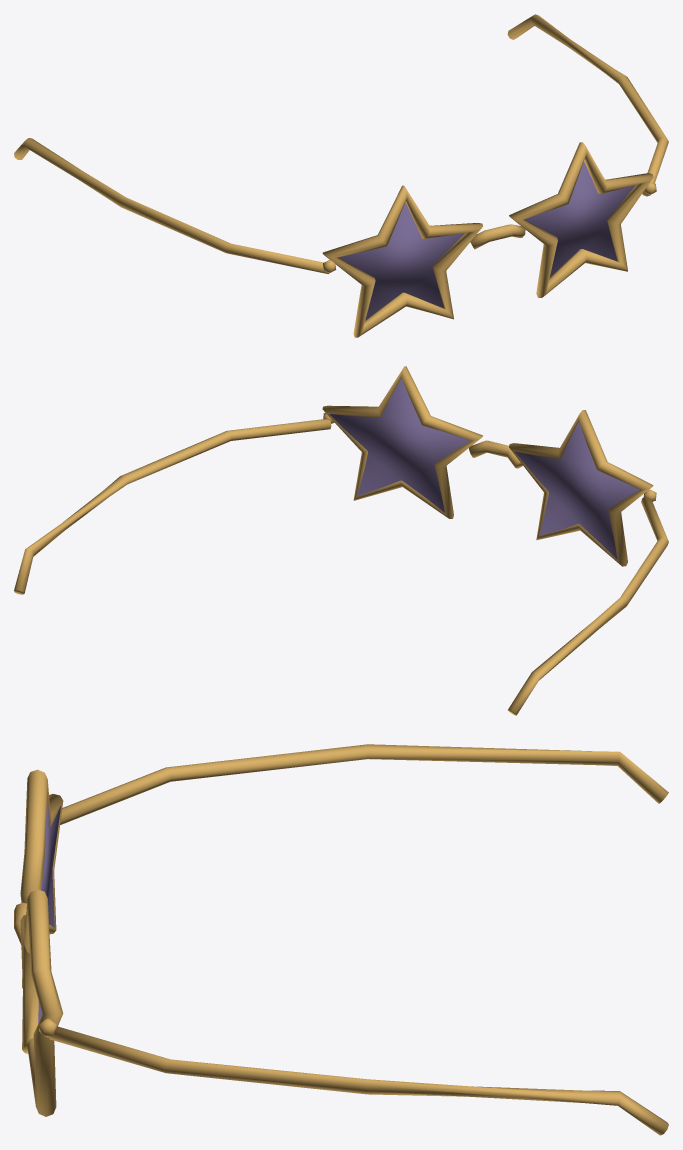
The model's file is 16-star-power.glb.
3 renders of one model, top to bottom at view 1: azimuth 30°, elevation 25°; view 2: azimuth 150°, elevation 25°; view 3: azimuth 270°, elevation 25°, orthographic. The views are drawn at different scales.
Parts seen in each view (by area): view 1: Glasses16_Rim-11, Glasses16_Rim13, Glasses16_Lens-12, Glasses16_Lens14, Glasses16_Temple-16, Glasses16_Temple18, Glasses16_Bridge5; view 2: Glasses16_Lens14, Glasses16_Lens-12, Glasses16_Temple18, Glasses16_Rim13, Glasses16_Rim-11, Glasses16_Temple-16, Glasses16_Bridge5; view 3: Glasses16_Temple-16, Glasses16_Temple18, Glasses16_Rim13, Glasses16_Rim-11, Glasses16_Lens-12.
Boxes of the visible parts, left/top/right/bottom form: Glasses16_Rim-11: left=322, top=185, right=482, bottom=337; Glasses16_Rim13: left=509, top=142, right=653, bottom=297; Glasses16_Lens-12: left=338, top=202, right=464, bottom=320; Glasses16_Lens14: left=524, top=161, right=635, bottom=276; Glasses16_Temple-16: left=14, top=138, right=329, bottom=273; Glasses16_Temple18: left=507, top=14, right=668, bottom=196; Glasses16_Bridge5: left=470, top=224, right=525, bottom=249; Glasses16_Lens14: left=329, top=378, right=470, bottom=512; Glasses16_Lens-12: left=514, top=421, right=640, bottom=559; Glasses16_Temple18: left=14, top=419, right=331, bottom=594; Glasses16_Rim13: left=322, top=366, right=482, bottom=518; Glasses16_Rim-11: left=509, top=410, right=653, bottom=566; Glasses16_Temple-16: left=508, top=497, right=668, bottom=715; Glasses16_Bridge5: left=469, top=440, right=522, bottom=468; Glasses16_Temple-16: left=60, top=744, right=668, bottom=824; Glasses16_Temple18: left=49, top=1026, right=668, bottom=1135; Glasses16_Rim13: left=20, top=889, right=63, bottom=1116; Glasses16_Rim-11: left=20, top=769, right=63, bottom=988; Glasses16_Lens-12: left=41, top=796, right=60, bottom=927.
Size of the model in its own units: 0.6359 by 0.1684 by 0.5087.
